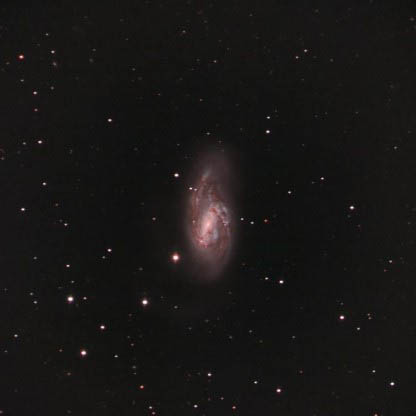Messier 66: (159, 126, 248, 295)
